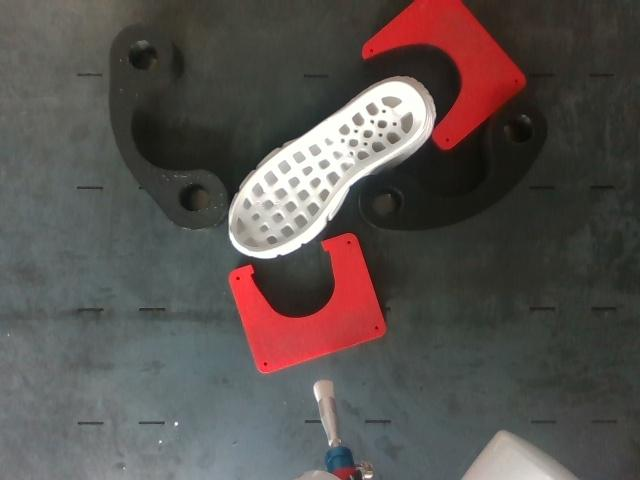shoes: (231, 82, 425, 252)
